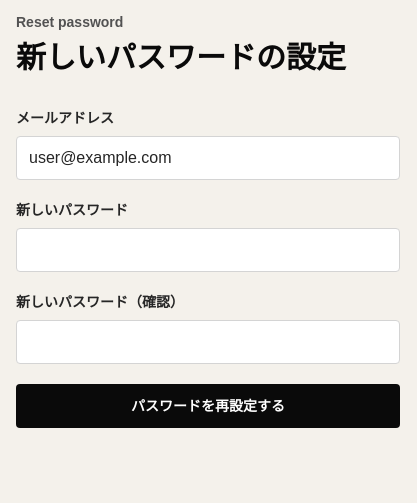
it: ResetPasswordForm › 通信に失敗したら、エラーを出す
Type "new-password" into the password field labelled "新しいパスワード".
click(208, 250); type("new-password")  # box [16,228,400,272]
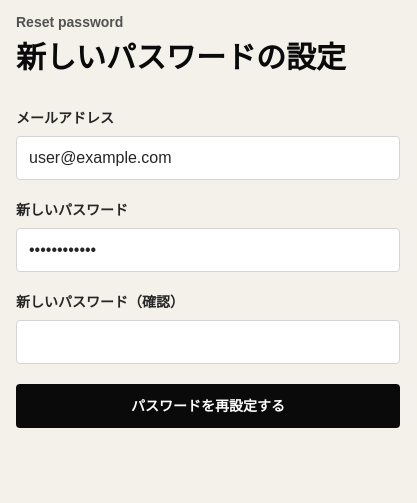
Type "new-password" into the password field labelled "新しいパスワード（確認）".
click(208, 342); type("new-password")  # box [16,320,400,364]
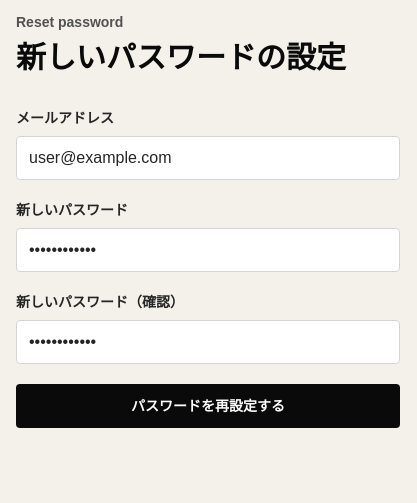
Click the button "パスワードを再設定する".
click(208, 406)  # box [16,384,400,428]
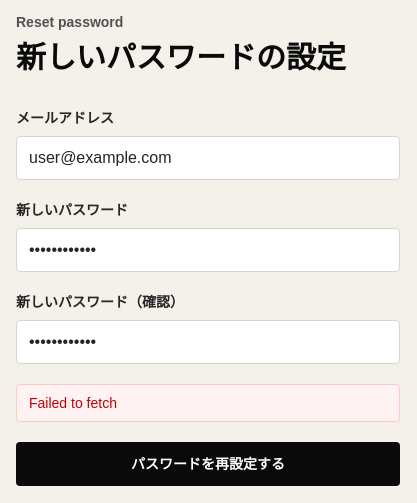
Check: the text "Failed to fetch" is shown, box [16,384,400,422]
